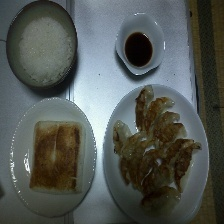rice: (16, 16, 72, 84)
